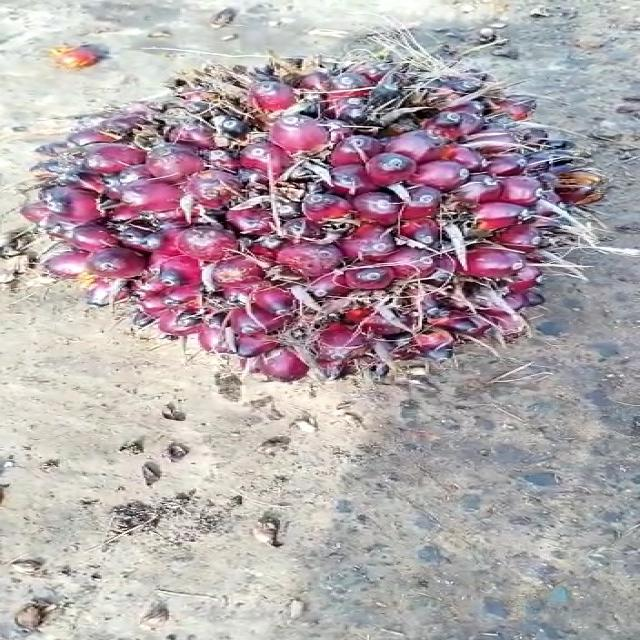palm oil: (16, 49, 608, 384)
